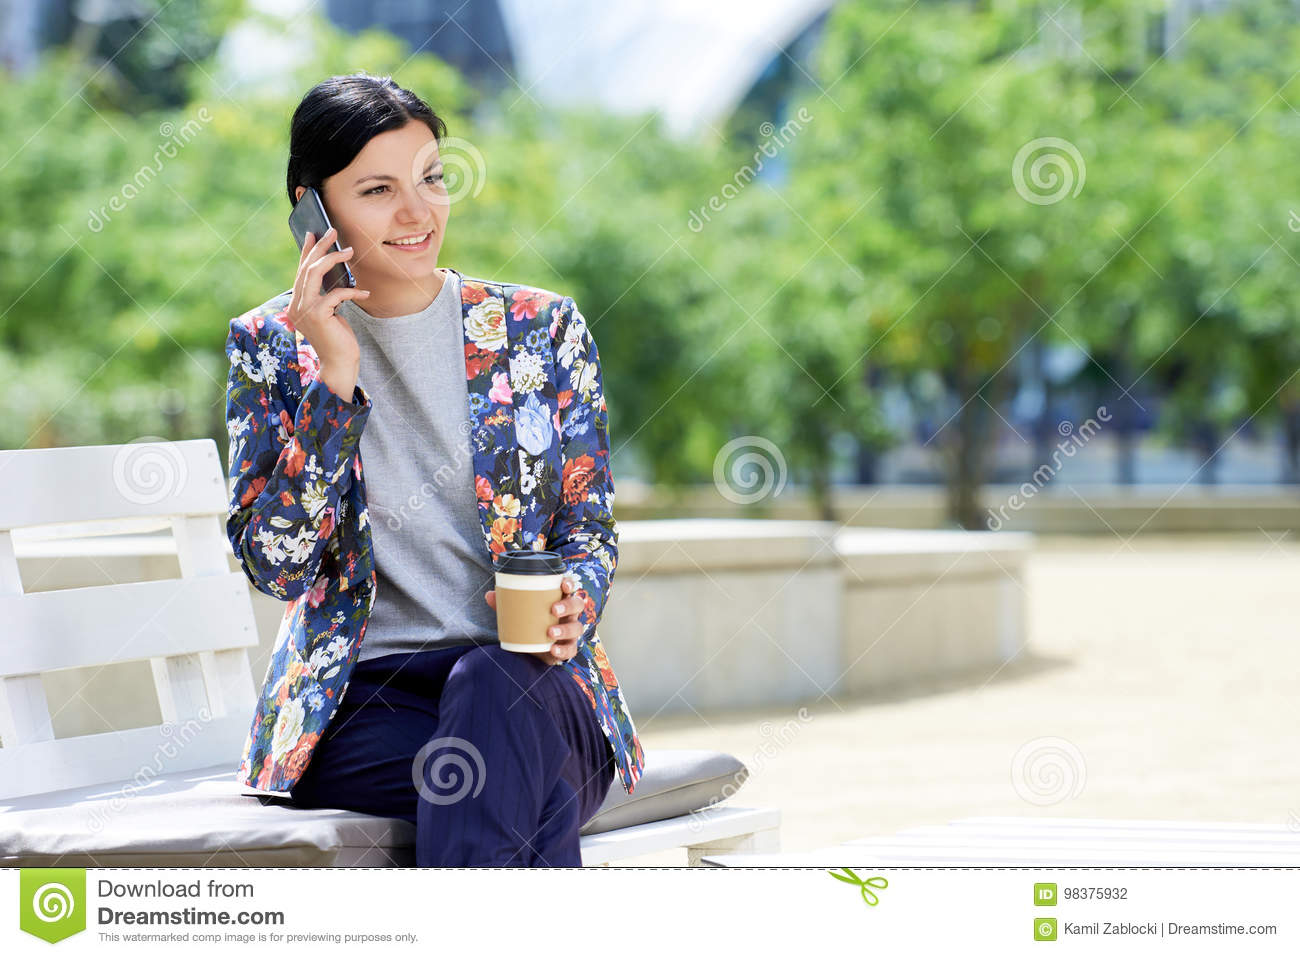phone: (287, 188, 362, 302)
talk: (282, 161, 447, 380)
